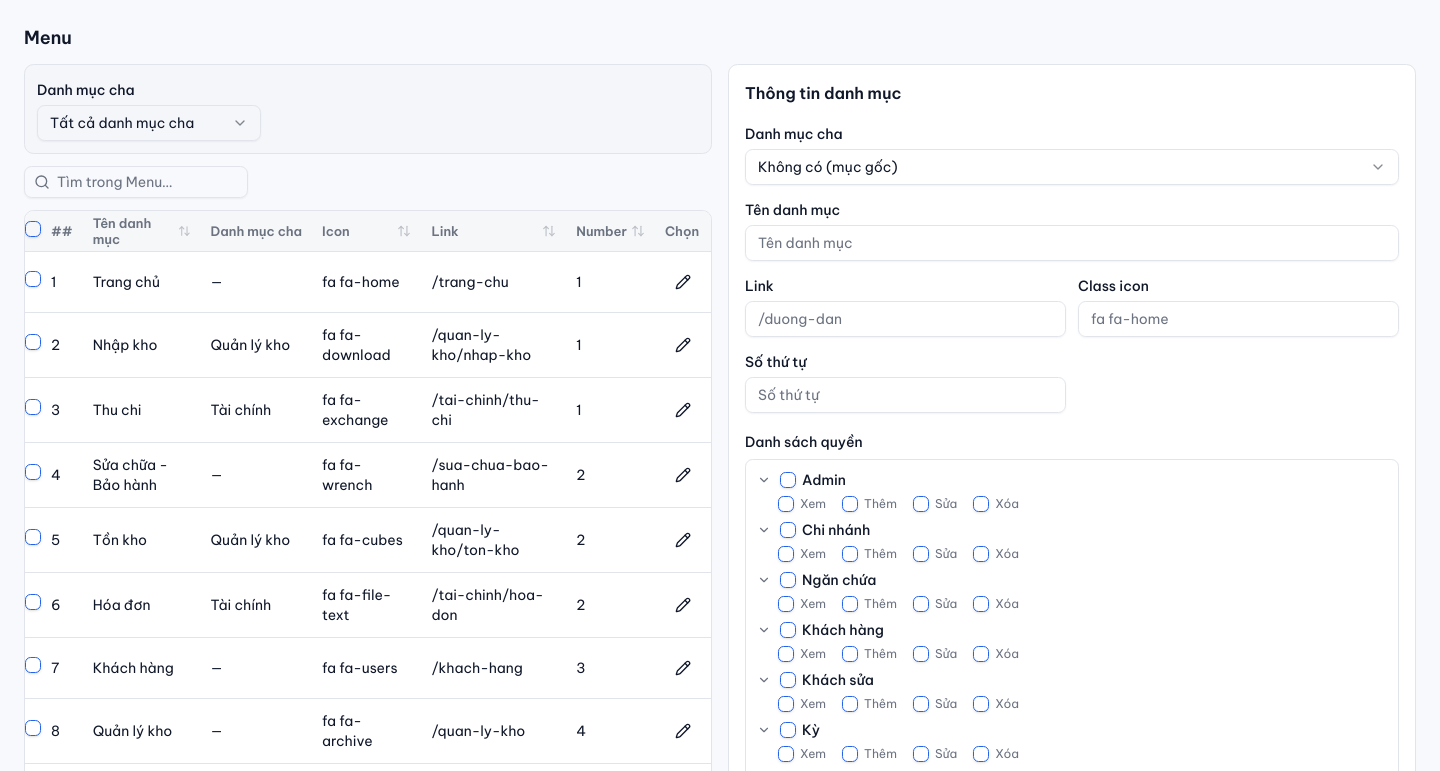
Test case: MenuPage › shows the bulk-delete bar once a row is selected
This screenshot has width=1440, height=771.
Click the checkbox named "Chọn dòng" in the row of "Trang chủ" at {"x": 33, "y": 279}, box [25, 271, 41, 287]
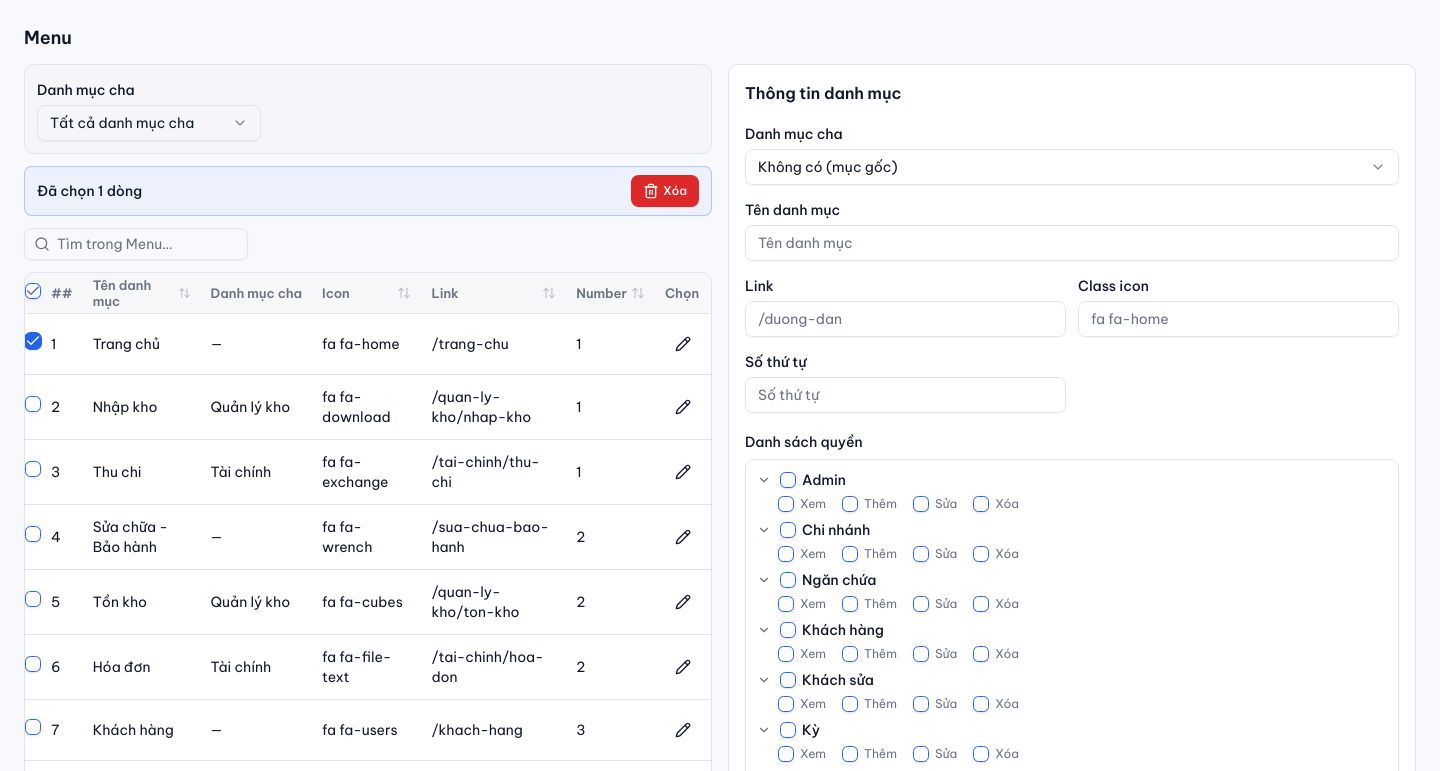
Check: the text "Đã chọn 1 dòng" is shown, box [37, 181, 142, 201]
